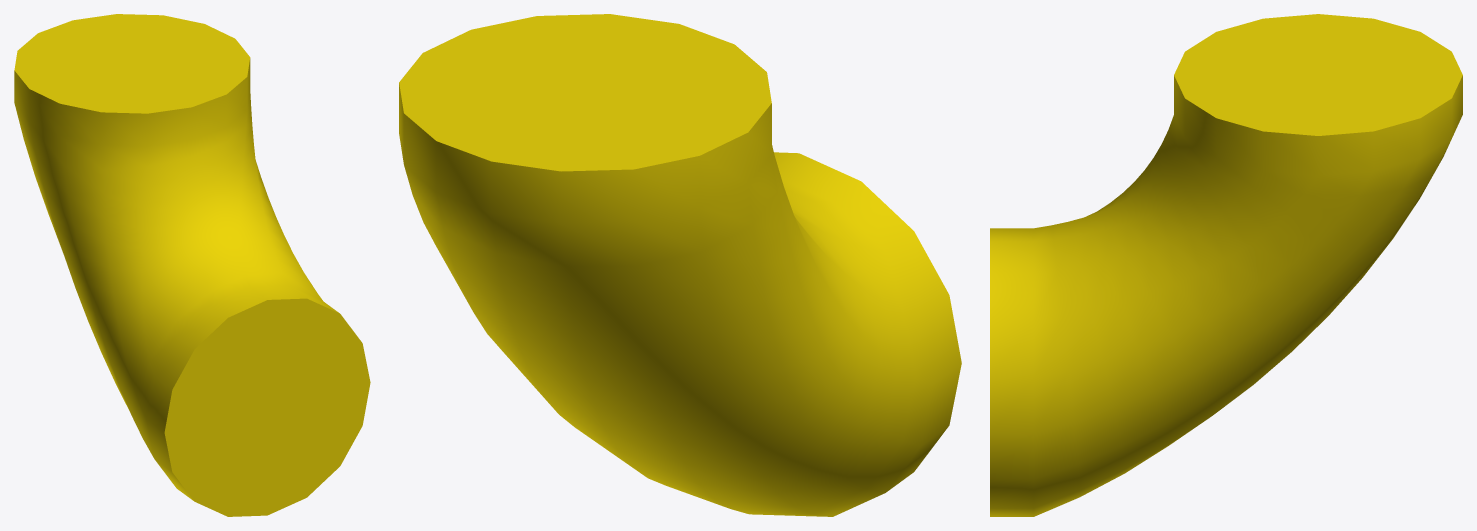
The model's file is pipeInsideBend.fbx.
3 views of the same model, side by side, from view 1: azimuth 30°, elevation 25°; view 2: azimuth 150°, elevation 25°; view 3: azimuth 270°, elevation 25° (orthographic). The views are drawn at different scales.
Parts seen in each view (by area): view 1: VinoPutkiSisä; view 2: VinoPutkiSisä; view 3: VinoPutkiSisä.
Boxes of the visible parts, x1,y1,x2,y2 form: VinoPutkiSisä: (14, 14, 370, 516); VinoPutkiSisä: (399, 14, 961, 516); VinoPutkiSisä: (990, 14, 1462, 516).
Bounding box in the file's own units: 44 × 72 × 72.
